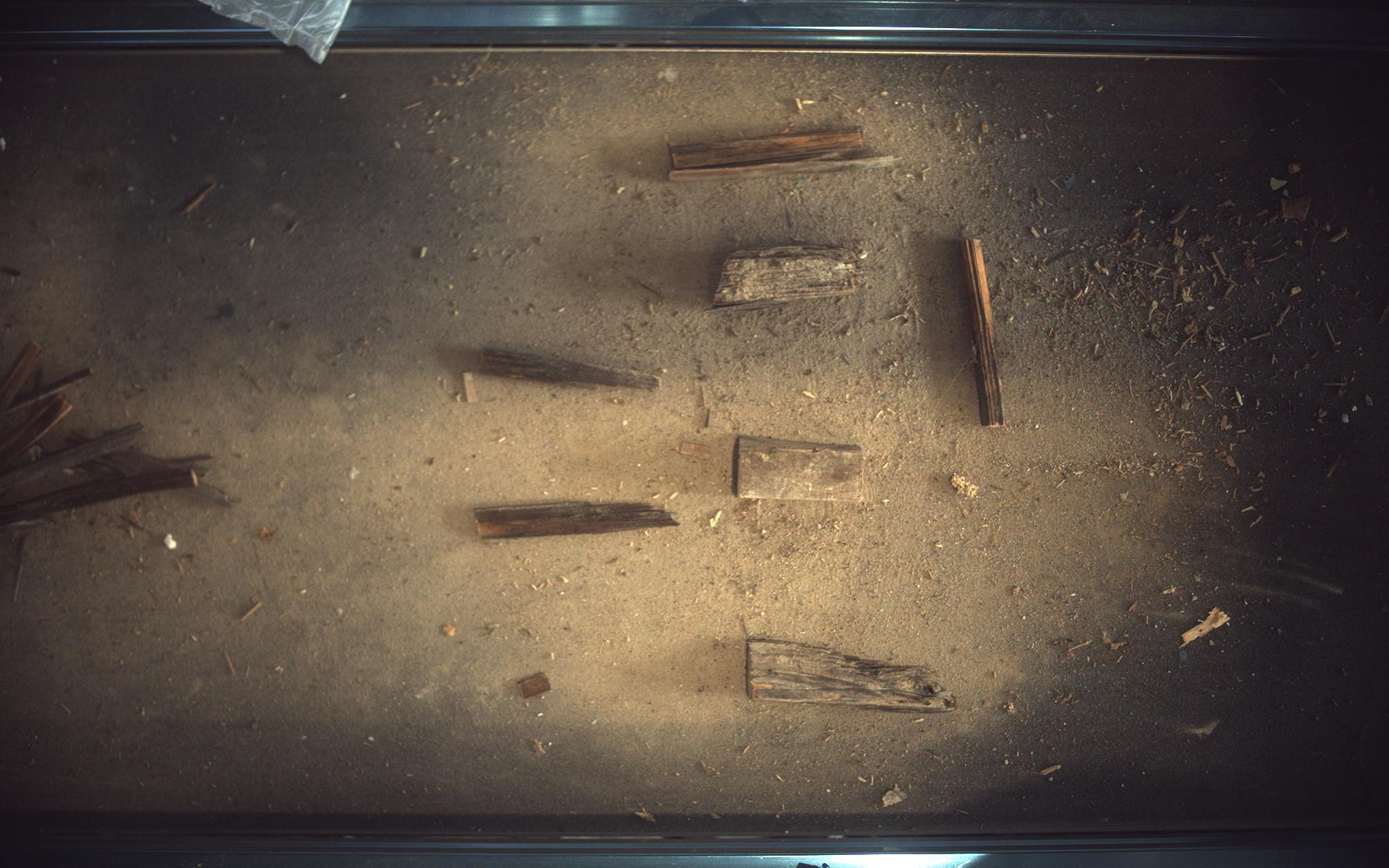wood: (747, 639, 958, 713), (670, 126, 898, 180), (714, 244, 866, 309), (736, 435, 865, 502), (962, 239, 1007, 427), (480, 347, 660, 390), (475, 502, 680, 539)
